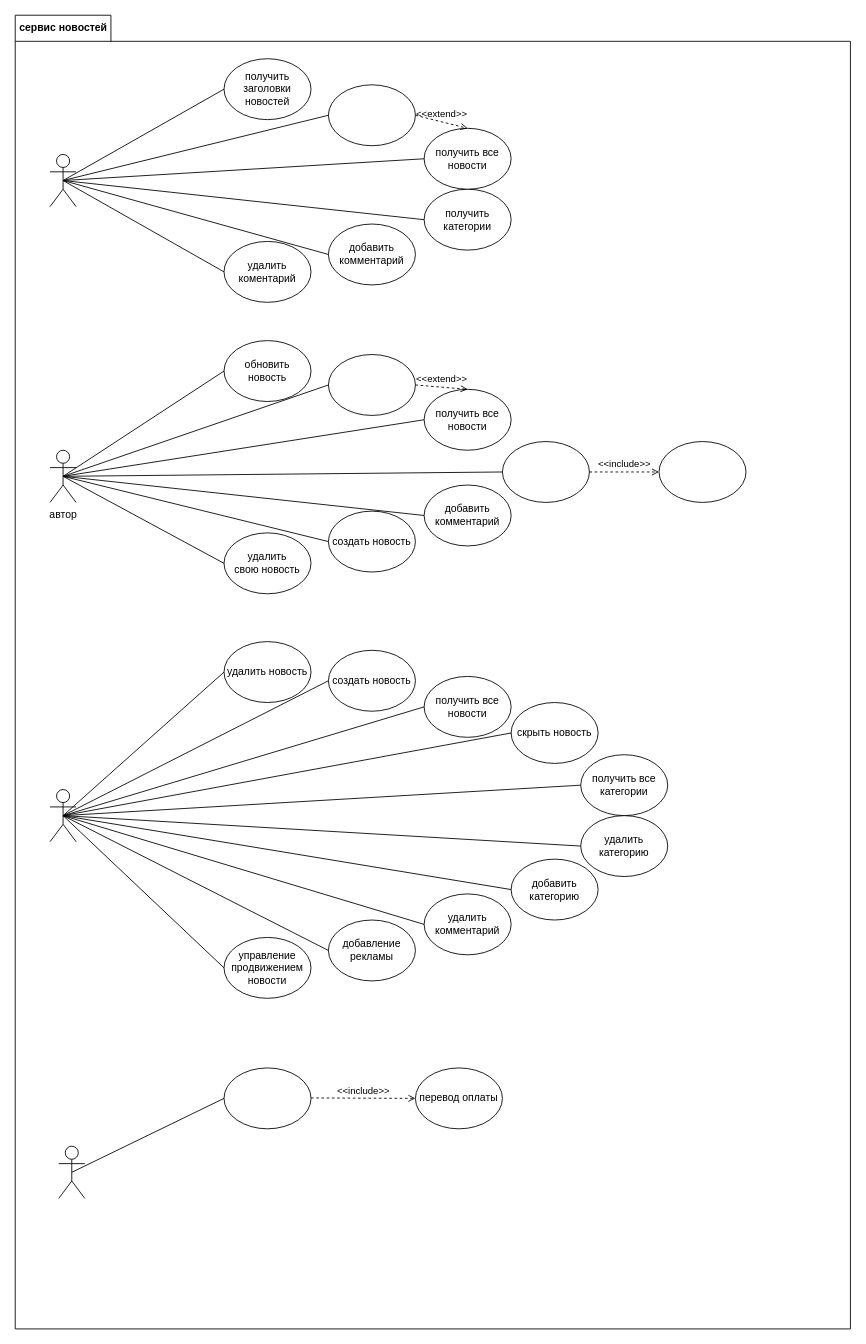
This 866x1344 diagram has some shape labels left out. Here are the shapes that lost their labels. From the top down, the centre of each, then its label:
the point at 371,115: получить положительные новости
the point at 62,180: читатель
the point at 371,384: получить свои новости
the point at 545,471: продвигать новость
the point at 702,471: оплата
the point at 62,815: администратор
the point at 267,1098: прием оплаты
the point at 71,1171: финансовый посредник
